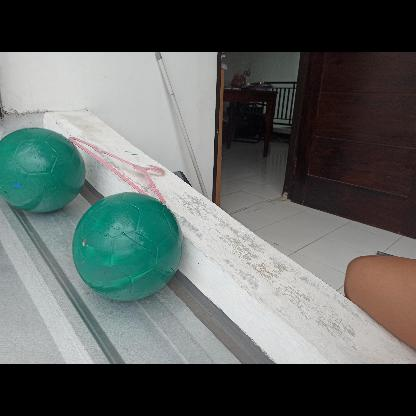green_ball: (72, 191, 182, 301)
